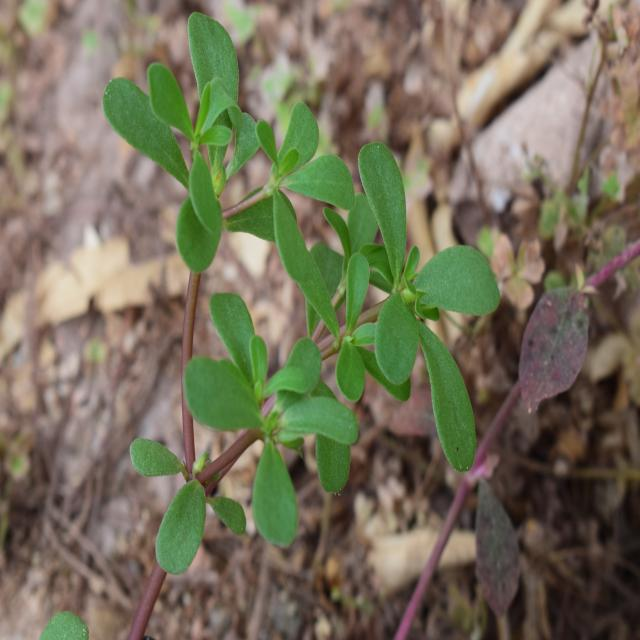purslane: (101, 10, 479, 588)
